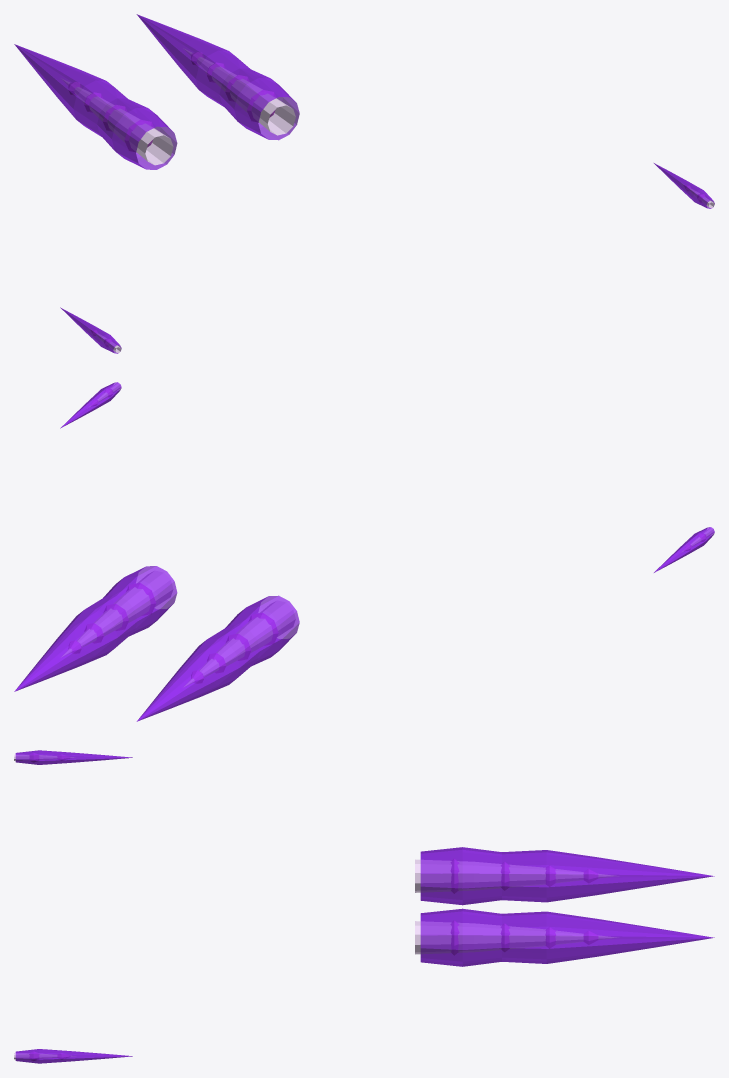
Rendered from enemy_thruster_plume.obj.
3 views of the same model, one above another, from view 1: azimuth 30°, elevation 25°; view 2: azimuth 150°, elevation 25°; view 3: azimuth 270°, elevation 25° (orthographic). The views are drawn at different scales.
Visible parts, largest first — view 1: outer_plume, plume_core, shock_diamonds; view 2: outer_plume, plume_core, shock_diamonds; view 3: outer_plume, plume_core, shock_diamonds.
Boxes of the visible parts, box(x1,y1,x2,y2) form: outer_plume: box(14, 14, 714, 353); plume_core: box(62, 49, 714, 352); shock_diamonds: box(68, 52, 705, 346); outer_plume: box(14, 382, 714, 721); plume_core: box(62, 383, 713, 686); shock_diamonds: box(68, 389, 705, 683); outer_plume: box(15, 750, 714, 1063); plume_core: box(14, 754, 616, 1059); shock_diamonds: box(29, 753, 597, 1060).
Bounding box in the file's own units: 12.88 × 1.04 × 12.5.
